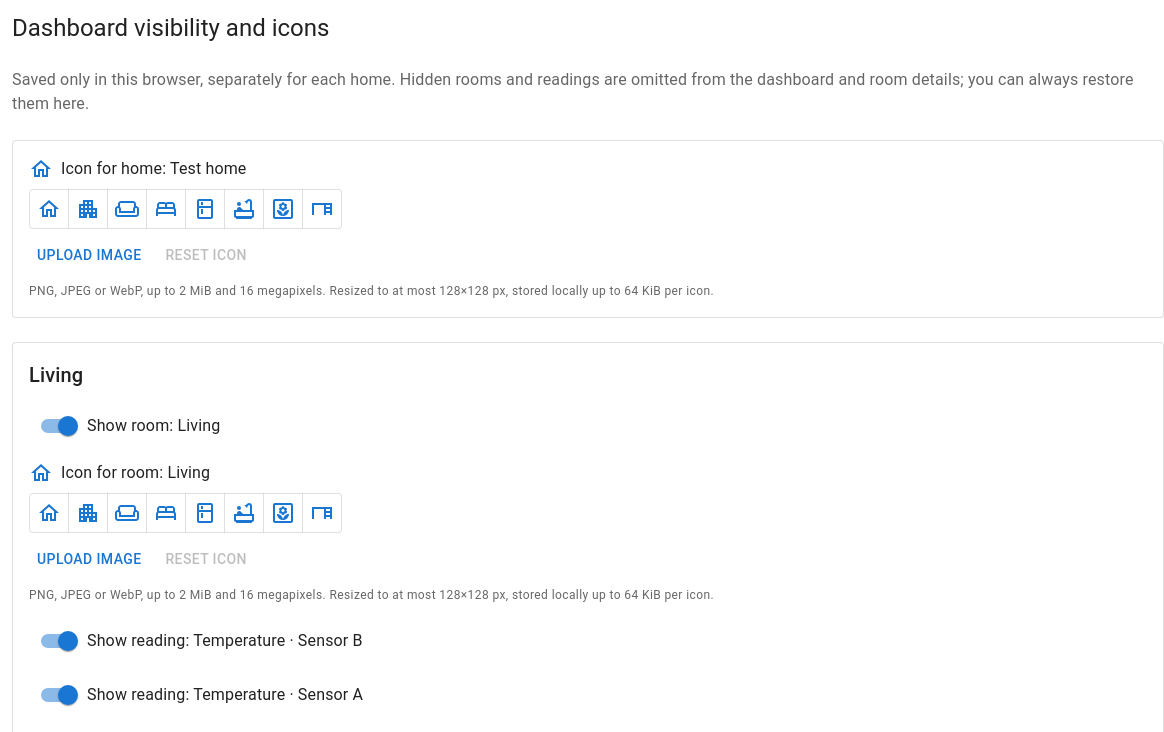
customization settings › reports quota errors without changing current or persisted preferences
Click the switch labelled "Show room: Living": (131,426) [41,416,220,436]
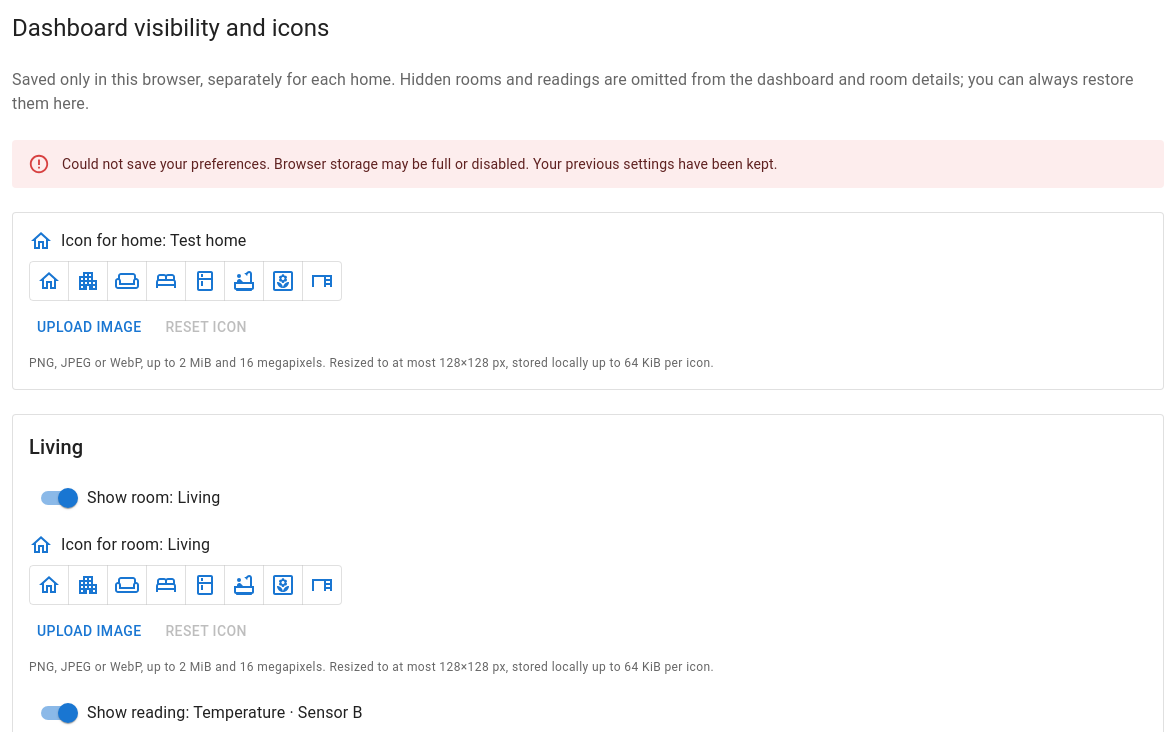
Expected: the switch labelled "Show room: Living" is checked, [41,488,220,508]
Now the message shows "Your previous settings have been kept", box [62,156,778,172]
